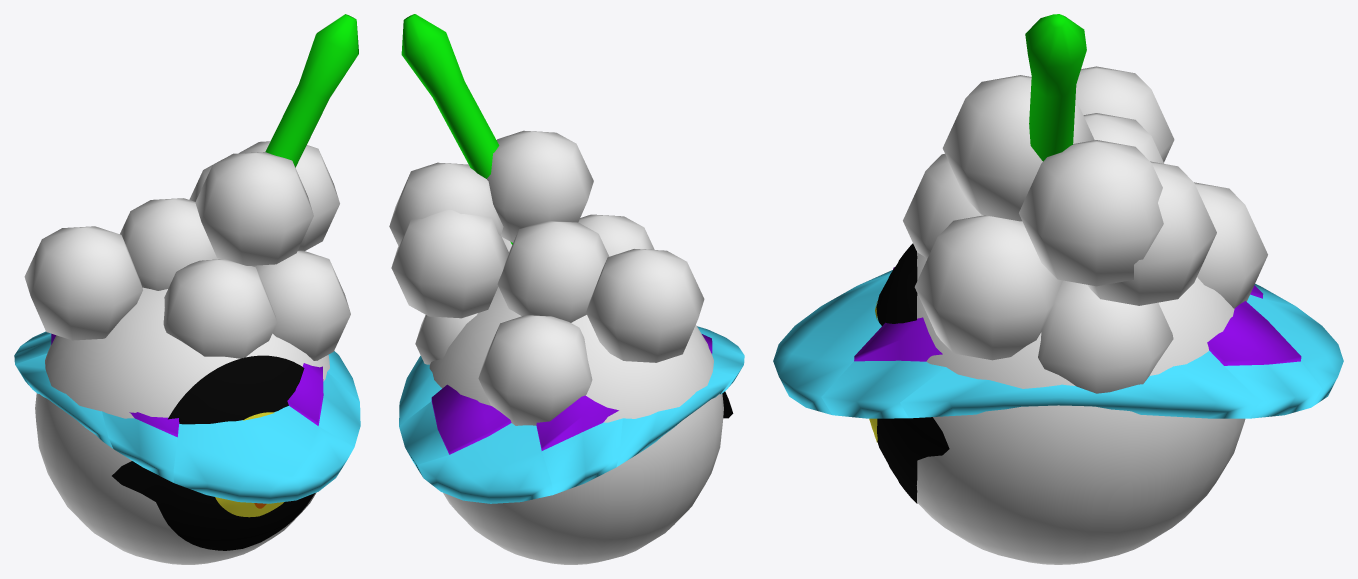
File: StrangeThings.glb
The picture shows the model from 3 angles, left to right: view 1: azimuth 30°, elevation 25°; view 2: azimuth 150°, elevation 25°; view 3: azimuth 270°, elevation 25°; orthographic projection. The views are drawn at different scales.
Visible parts, largest first — view 1: WhiteBerry, Eye, Beetle, Circle, Circle.001; view 2: WhiteBerry, Eye, Beetle; view 3: WhiteBerry, Eye, Beetle, Circle.
Part boxes in pixels (x1,y1,x2,y2): WhiteBerry: (24,14,358,360); Eye: (35,287,329,564); Beetle: (14,331,360,503); Circle: (112,355,314,550); Circle.001: (215,412,283,517); WhiteBerry: (389,14,704,425); Eye: (429,287,723,564); Beetle: (399,326,744,503); WhiteBerry: (903,14,1267,393); Eye: (916,252,1245,564); Beetle: (773,267,1343,418); Circle: (876,243,949,503).
Size of the model in its own units: 2.34 by 3.59 by 2.95.
